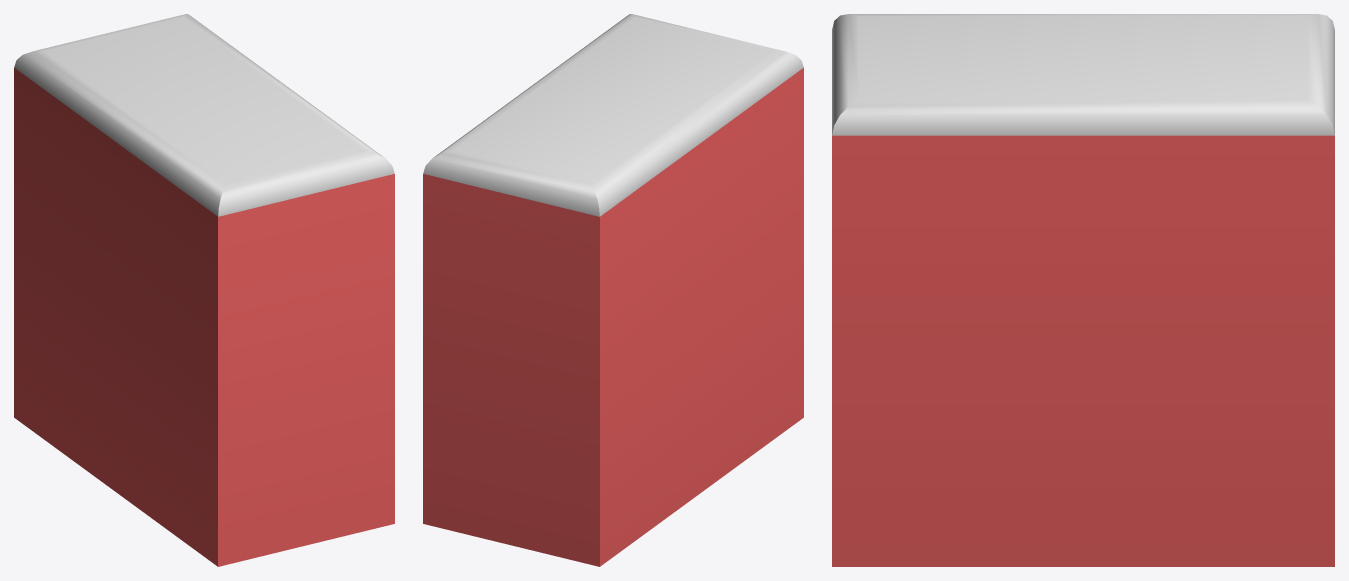
The model's file is CubeForTile_06.1.fbx.
The picture shows the model from 3 angles, left to right: view 1: azimuth 30°, elevation 25°; view 2: azimuth 150°, elevation 25°; view 3: azimuth 270°, elevation 25°; orthographic projection. The views are drawn at different scales.
Visible parts, largest first — view 1: CubeForTile_06.1; view 2: CubeForTile_06.1; view 3: CubeForTile_06.1.
Boxes of the visible parts, <box> form: CubeForTile_06.1: <box>14,14,394,566</box>; CubeForTile_06.1: <box>423,14,803,566</box>; CubeForTile_06.1: <box>832,14,1334,566</box>.
Size of the model in its own units: 100 by 200 by 200.
